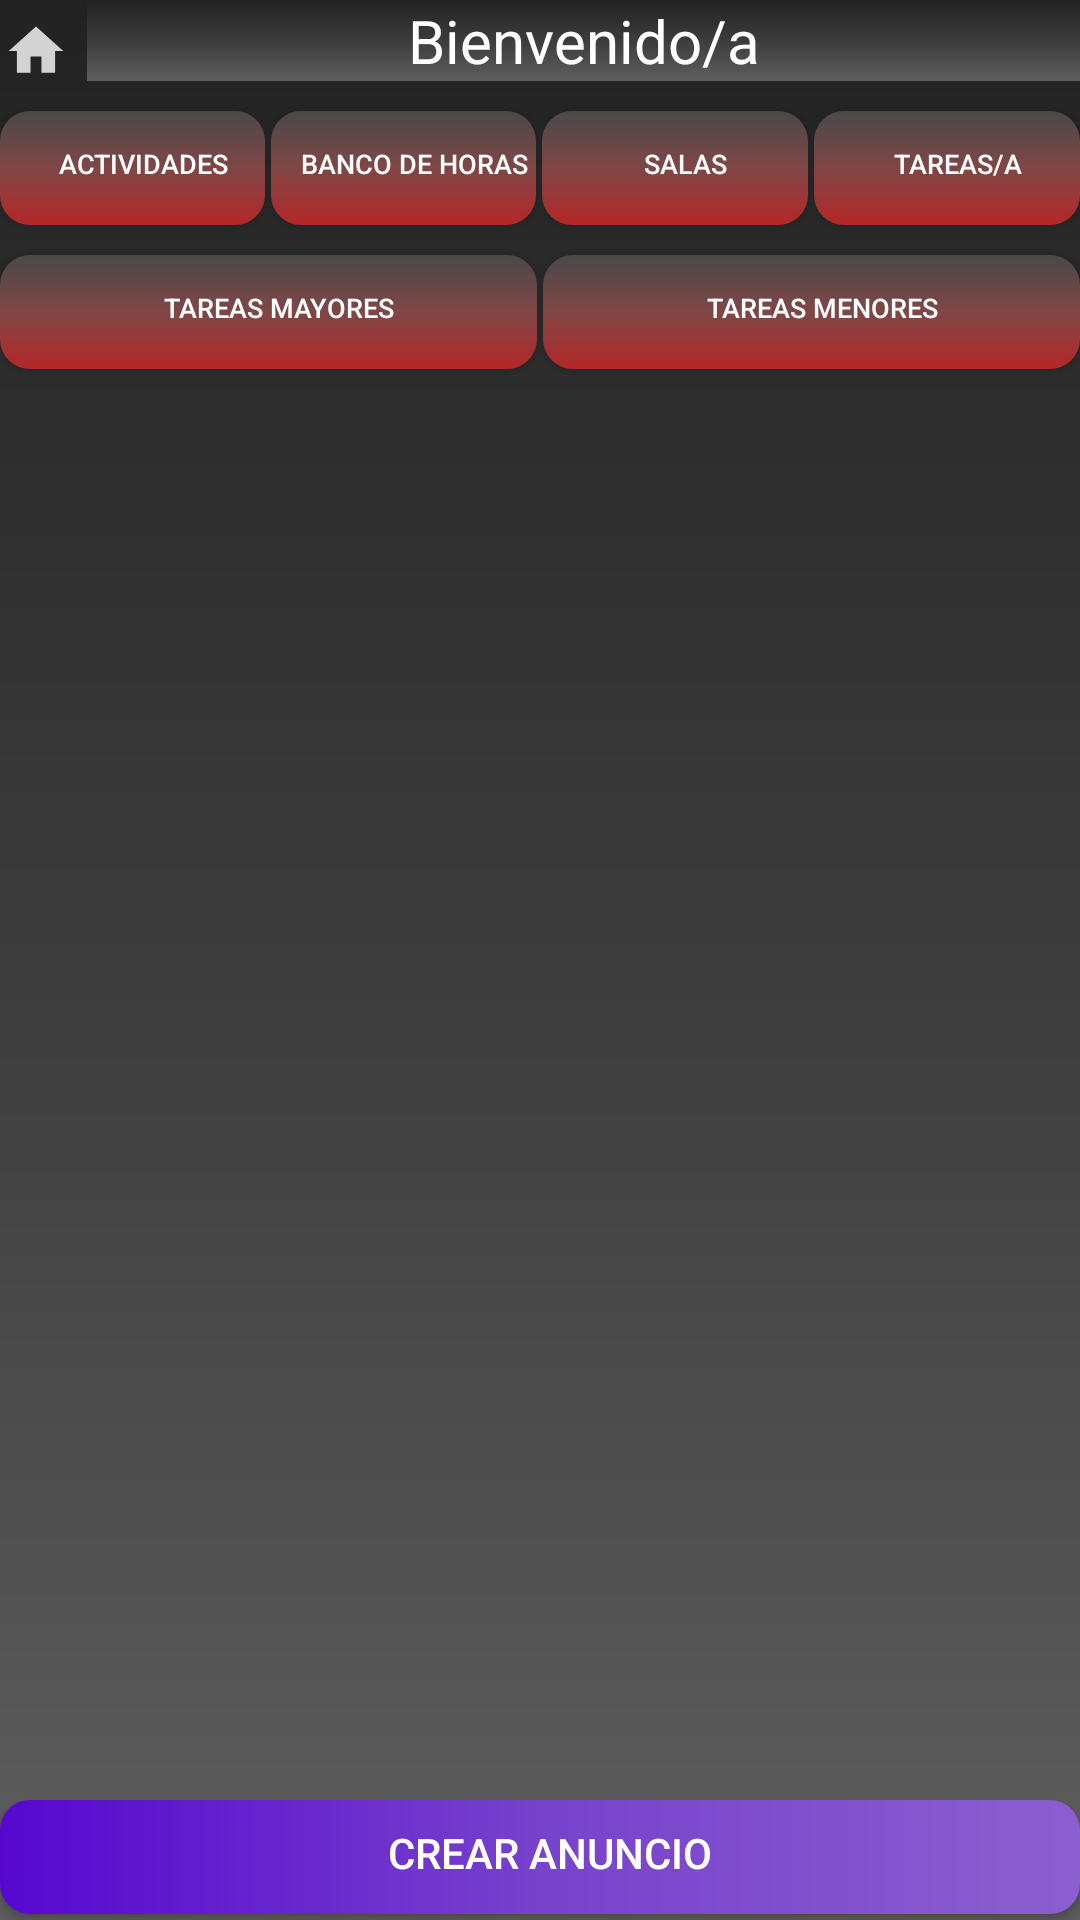

Point at icon controls on the screen. Image size 1080px×1920px, points as (x=x, y=y).
home: (x=36, y=50)
